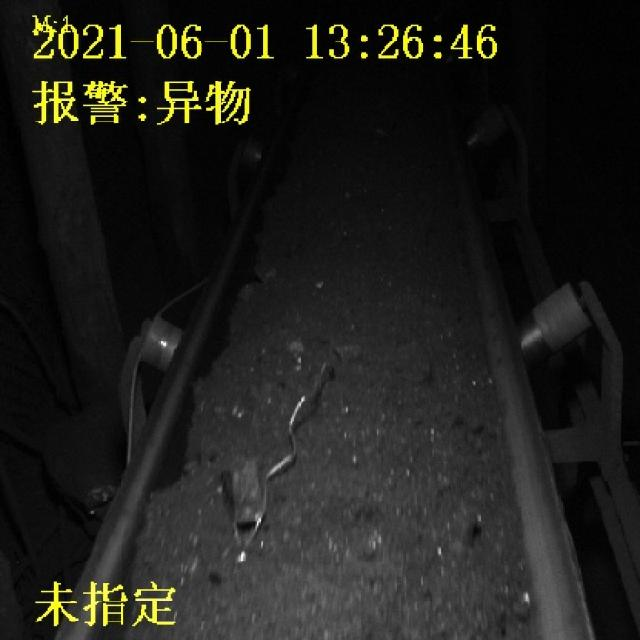bolt: (220, 355, 332, 563)
large_sized_coal: (220, 458, 271, 530)
